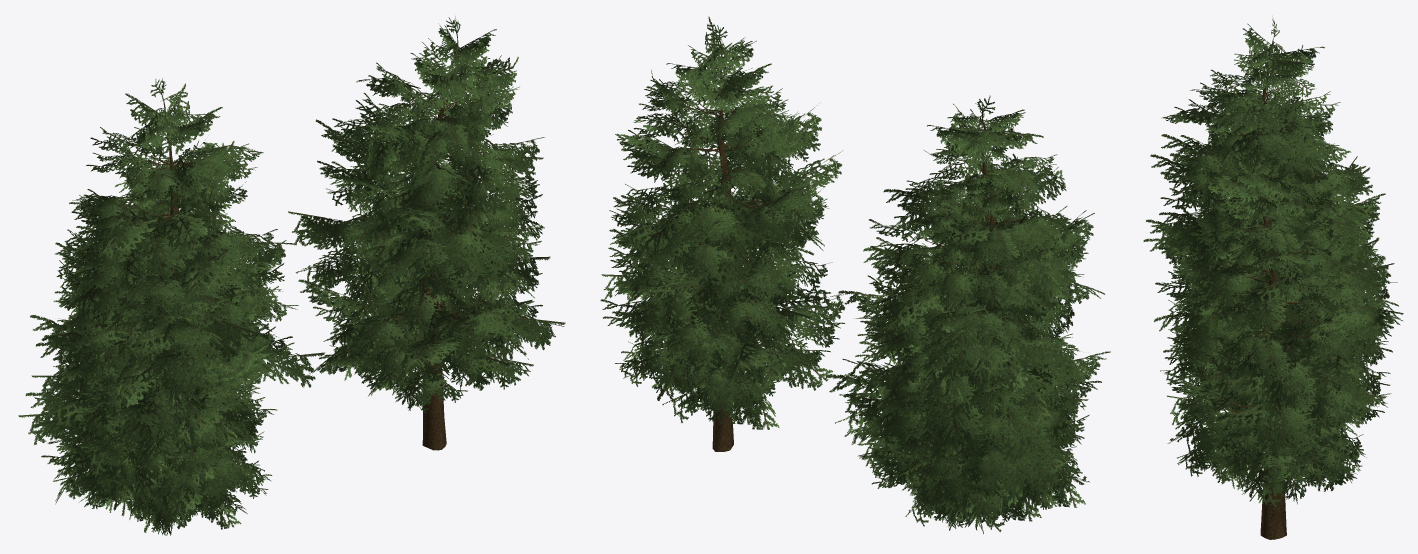
File: young_firs.glb
3 views of the same model, side by side, from view 1: azimuth 30°, elevation 25°; view 2: azimuth 150°, elevation 25°; view 3: azimuth 270°, elevation 25° (orthographic). The views are drawn at different scales.
Visible parts, largest first — view 1: YoungFir2, YoungFir2Far, YoungFir1, YoungFir1Far, YoungFir3, YoungFir3Far, YoungFir4; view 2: YoungFir2, YoungFir2Far, YoungFir1, YoungFir1Far, YoungFir3, YoungFir3Far; view 3: YoungFir2, YoungFir2Far, YoungFir1, YoungFir1Far, YoungFir3Far, YoungFir3.
Part boxes in pixels (left/top/right/bottom): YoungFir2: left=300, top=16, right=542, bottom=450; YoungFir2Far: left=288, top=23, right=565, bottom=450; YoungFir1: left=38, top=78, right=303, bottom=535; YoungFir1Far: left=18, top=83, right=324, bottom=526; YoungFir3: left=48, top=139, right=277, bottom=525; YoungFir3Far: left=30, top=164, right=276, bottom=535; YoungFir4: left=99, top=318, right=232, bottom=518; YoungFir2: left=600, top=25, right=844, bottom=451; YoungFir2Far: left=601, top=16, right=849, bottom=451; YoungFir1: left=846, top=95, right=1101, bottom=530; YoungFir1Far: left=825, top=104, right=1110, bottom=531; YoungFir3: left=873, top=153, right=1089, bottom=522; YoungFir3Far: left=857, top=172, right=1088, bottom=533; YoungFir2: left=1163, top=146, right=1394, bottom=539; YoungFir2Far: left=1154, top=156, right=1403, bottom=539; YoungFir1: left=1155, top=18, right=1388, bottom=409; YoungFir1Far: left=1143, top=39, right=1397, bottom=405; YoungFir3Far: left=1151, top=94, right=1392, bottom=413; YoungFir3: left=1167, top=73, right=1382, bottom=407.
Size of the model in its own units: 12.01 by 9.87 by 5.82.
Materials: 2 (2 with a texture image).
